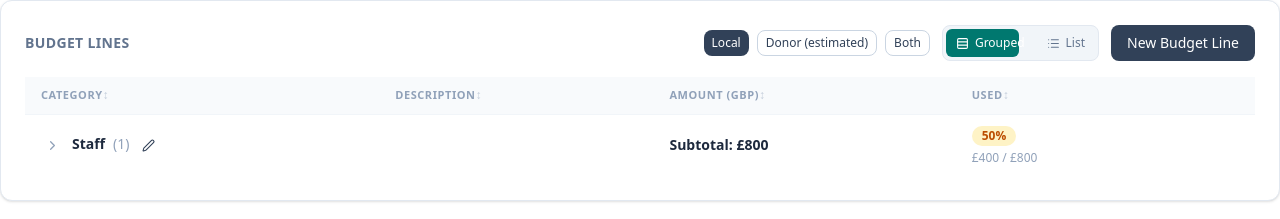
Test: BudgetViewLinesTable currency toggle › converts Amount and Used to the donor currency when Donor (estimated) is selected, stating the currency once in the header
Click the button "Donor (estimated)": (817, 43) [757,30,877,56]
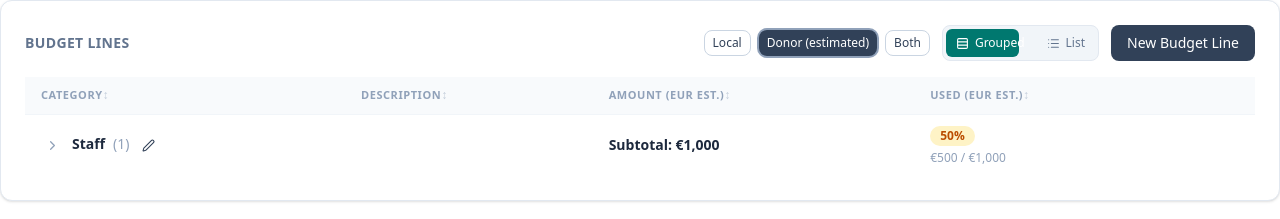
Result: the text "Amount (EUR est.)" is shown at [609,87,724,102]
Result: the text "Used (EUR est.)" is shown at [930,87,1023,102]
Result: the text "Subtotal: €1,000" is shown at [609,135,720,154]
